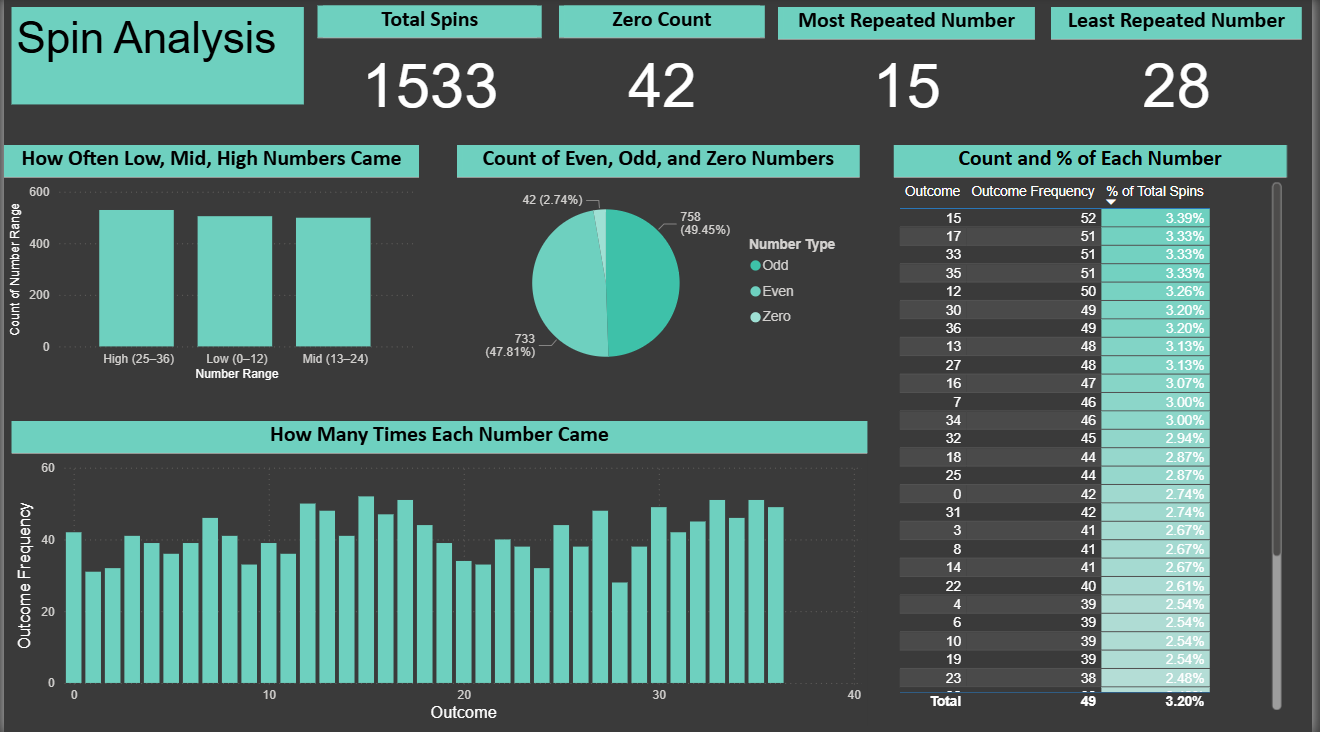

This screenshot's page, from the dashboard's own definition file:
{"tool":"powerbi","page":{"name":"Spin Analysis","canvas":[1280,720],"ordinal":1},"visuals":[{"type":"pieChart","title":"Count of Even, Odd, and Zero Numbers","fields":{"Category":["CasinoData.Number Type"],"Y":["CountNonNull(CasinoData.Number Type)"]},"box":[443.7,143.8,393.7,237.7],"z":0},{"type":"columnChart","title":"How Often Low, Mid, High Numbers Came","fields":{"Category":["CasinoData.Number Range"],"Y":["CountNonNull(CasinoData.Number Range)"]},"box":[0,143.8,405.8,234.7],"z":1000},{"type":"card","title":"Total Spins","fields":{"Values":["CasinoData.Total Spins"]},"box":[307.4,7.6,219.6,115.1],"z":2000},{"type":"card","title":"Zero Count","fields":{"Values":["CasinoData.Zero Count"]},"box":[543.6,7.6,201.4,115.1],"z":3000},{"type":"card","title":"Most Repeated Number","fields":{"Values":["CasinoData.Most_Frequent_Outcome"]},"box":[757.1,9.1,251.4,110.5],"z":4000},{"type":"card","title":"Least Repeated Number","fields":{"Values":["CasinoData.Least_Frequent_Outcome"]},"box":[1023.6,9.1,245.3,110.5],"z":5000},{"type":"columnChart","title":"How Many Times Each Number Came","fields":{"Y":["CasinoData.Outcome Frequency"],"Category":["CasinoData.Outcome"]},"box":[7.6,413.9,837.2,298.6],"z":6000},{"type":"textbox","box":[7.6,9.1,286.2,95.4],"z":7000},{"type":"tableEx","title":"Count and % of Each Number","fields":{"Values":["CasinoData.Outcome","CasinoData.Outcome Frequency","CasinoData.% of Total Spins"]},"box":[870.7,143.8,384.6,557.2],"z":8000}]}

Visuals, with their boxes in screenshot pixels (x1, y1, x2, y2), scaled from the page's 1280x720 canvas onto the 1320x732 screenshot:
"Count of Even, Odd, and Zero Numbers" pieChart: 458/146/864/388
"How Often Low, Mid, High Numbers Came" columnChart: 0/146/418/385
"Total Spins" card: 317/8/543/125
"Zero Count" card: 561/8/768/125
"Most Repeated Number" card: 781/9/1040/122
"Least Repeated Number" card: 1056/9/1309/122
"How Many Times Each Number Came" columnChart: 8/421/871/724
textbox: 8/9/303/106
"Count and % of Each Number" tableEx: 898/146/1295/713
